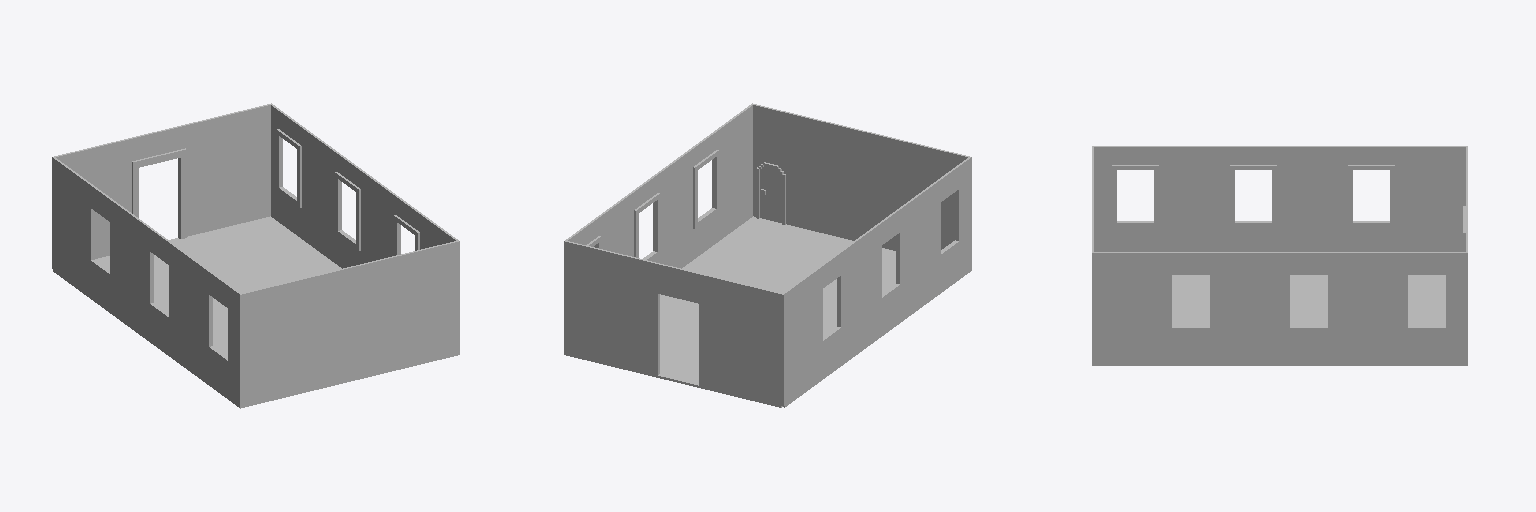
File: izba.obj
3 renders of one model, left to right at view 1: azimuth 30°, elevation 25°; view 2: azimuth 150°, elevation 25°; view 3: azimuth 270°, elevation 25°, orthographic.
Visible parts, largest first — view 1: object 1; view 2: object 1; view 3: object 1.
Part boxes in pixels (left/top/right/bottom): object 1: left=52, top=103, right=459, bottom=408; object 1: left=564, top=103, right=971, bottom=407; object 1: left=1092, top=146, right=1467, bottom=365.
Size of the model in its own units: 10.1 by 5 by 15.